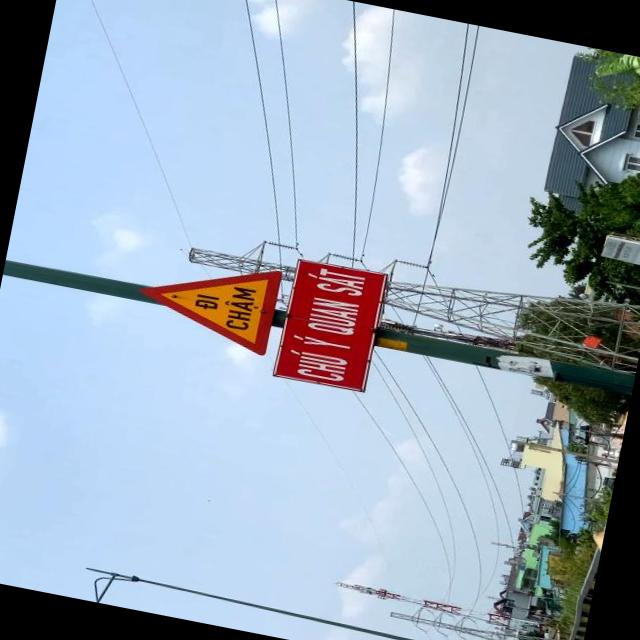W-245a: (134, 245, 284, 358)
